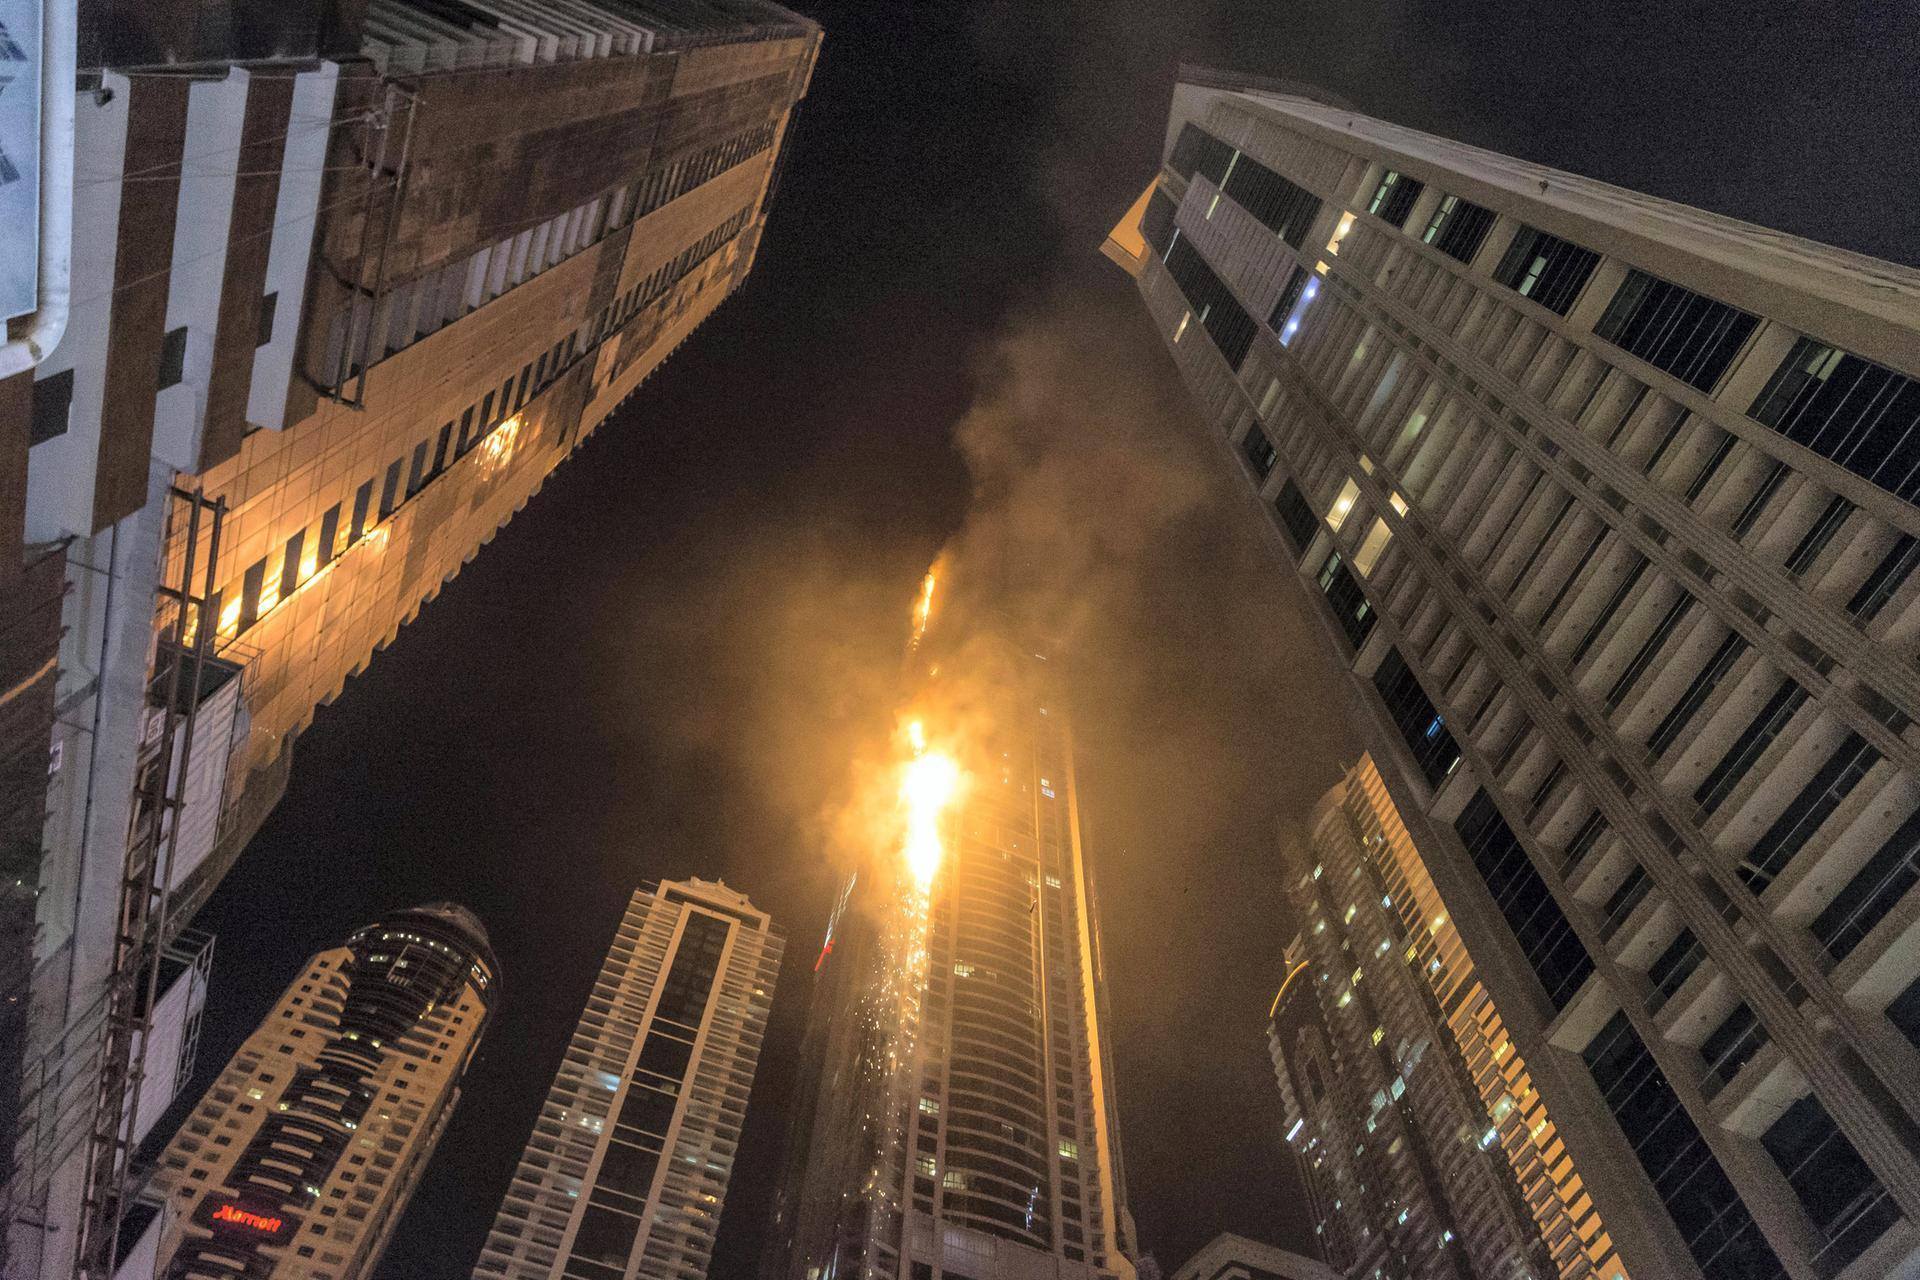fire: (891, 720, 974, 896), (919, 573, 936, 634)
smoke: (614, 494, 897, 981), (906, 294, 1214, 723), (976, 726, 1200, 1026)
